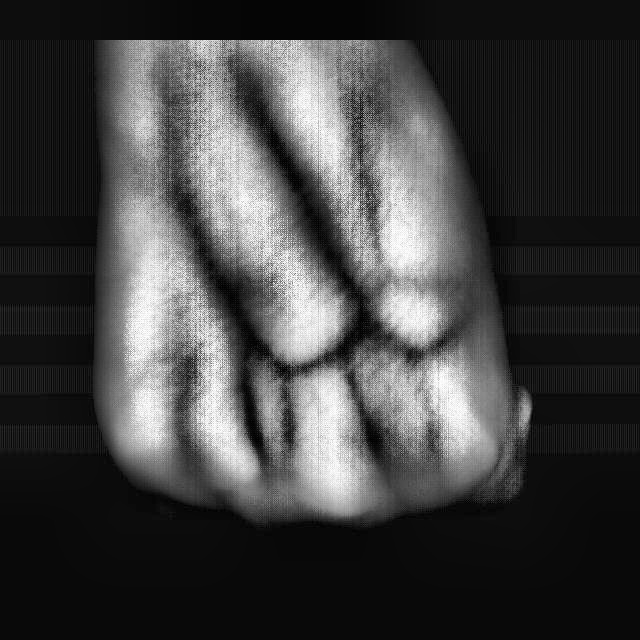Vein: (238, 93, 363, 295), (143, 128, 250, 327)
